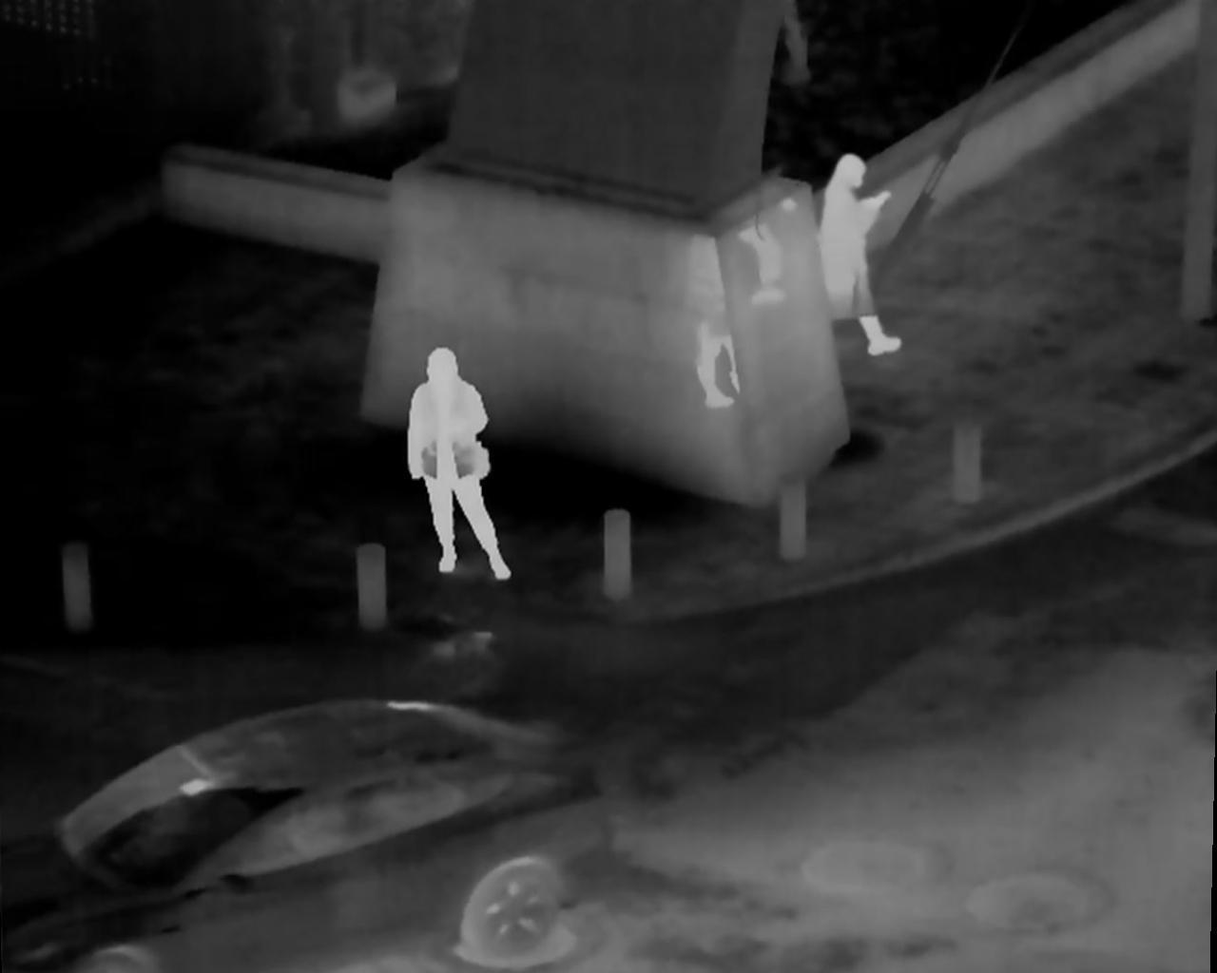person: (406, 348, 509, 583), (816, 155, 905, 355)
